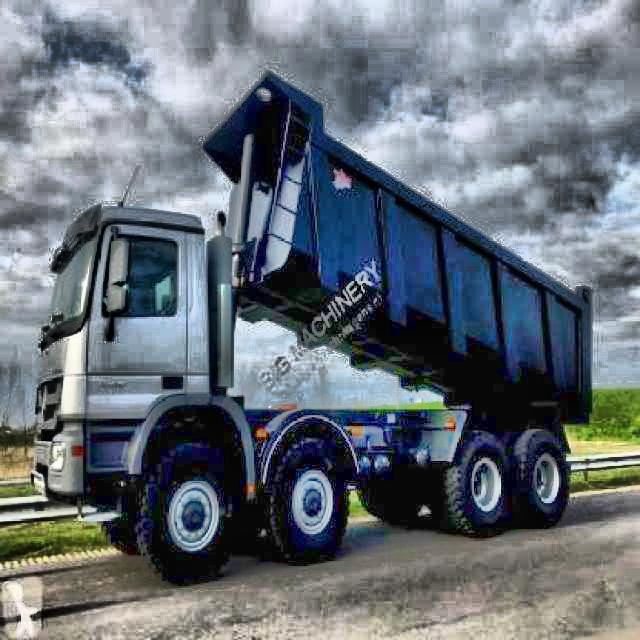dump_truck: (16, 67, 596, 590)
